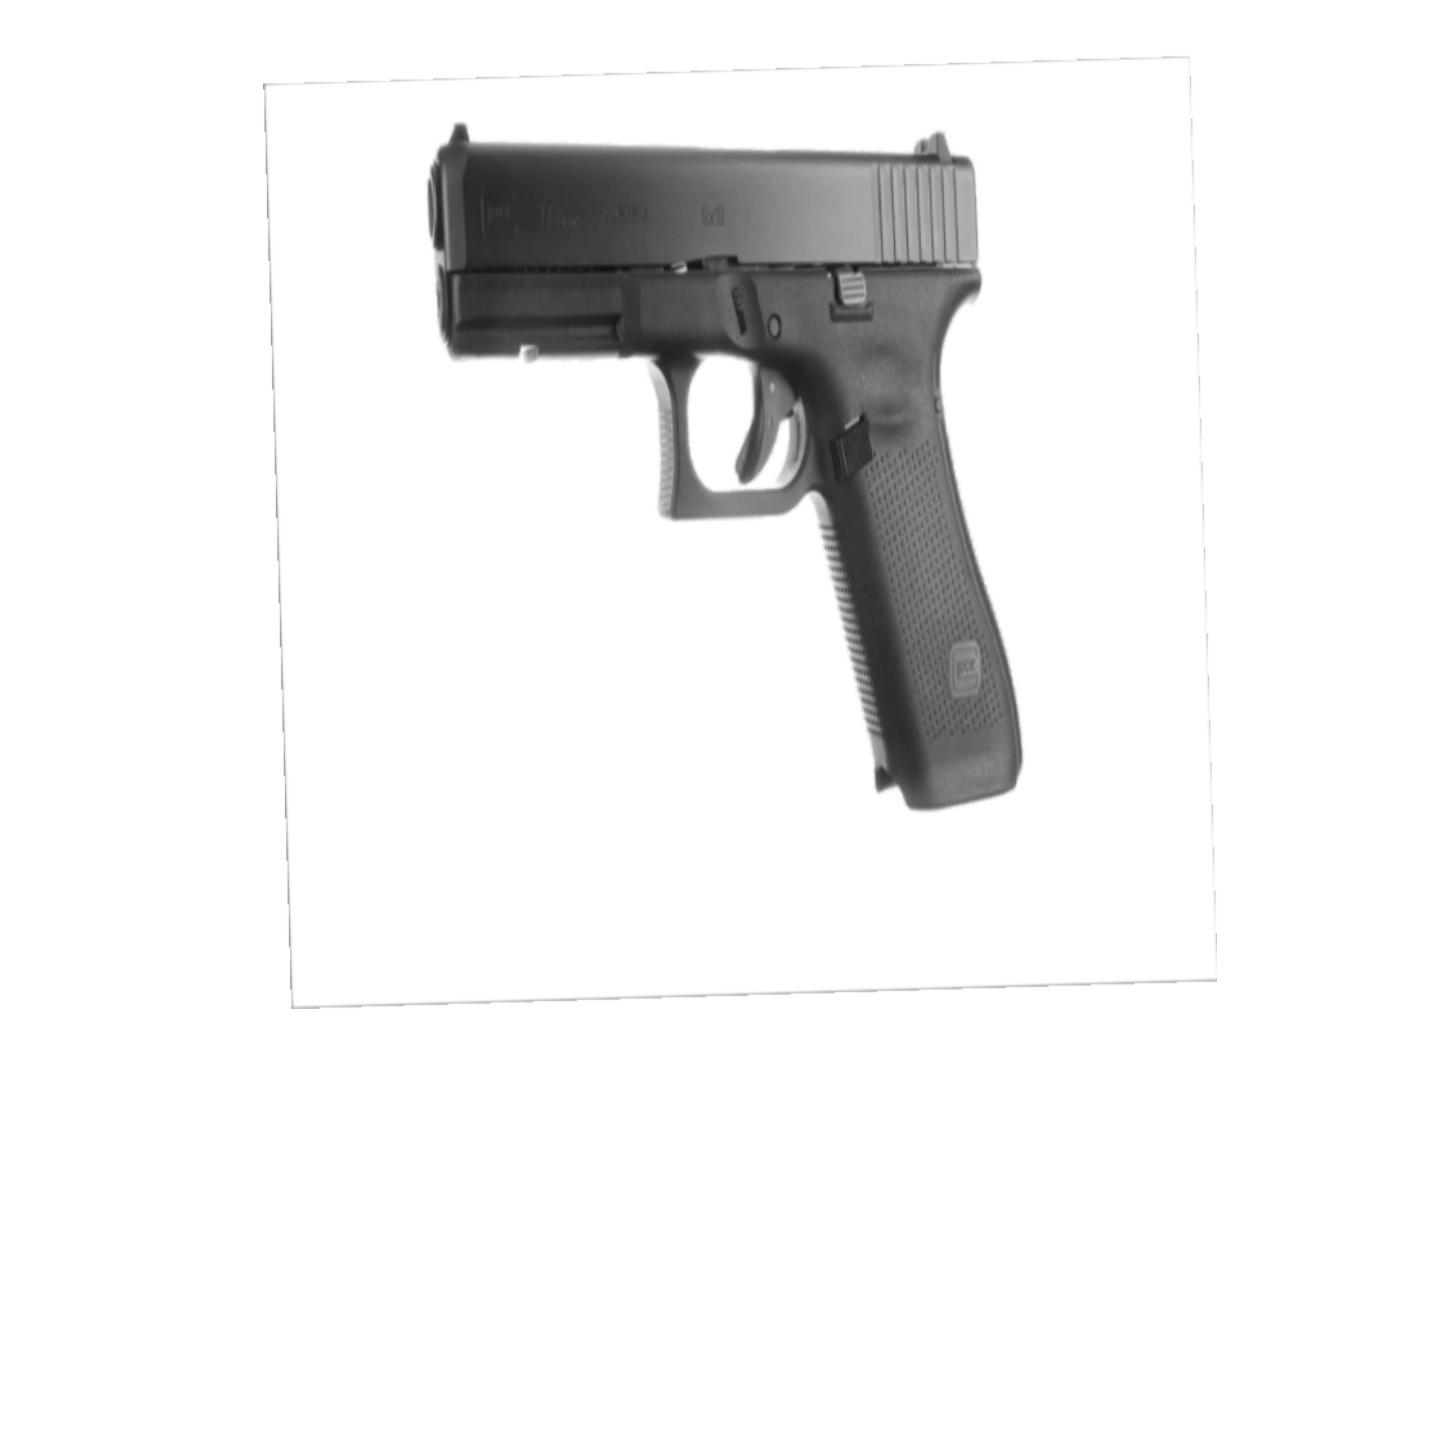gun: (396, 115, 1090, 820)
